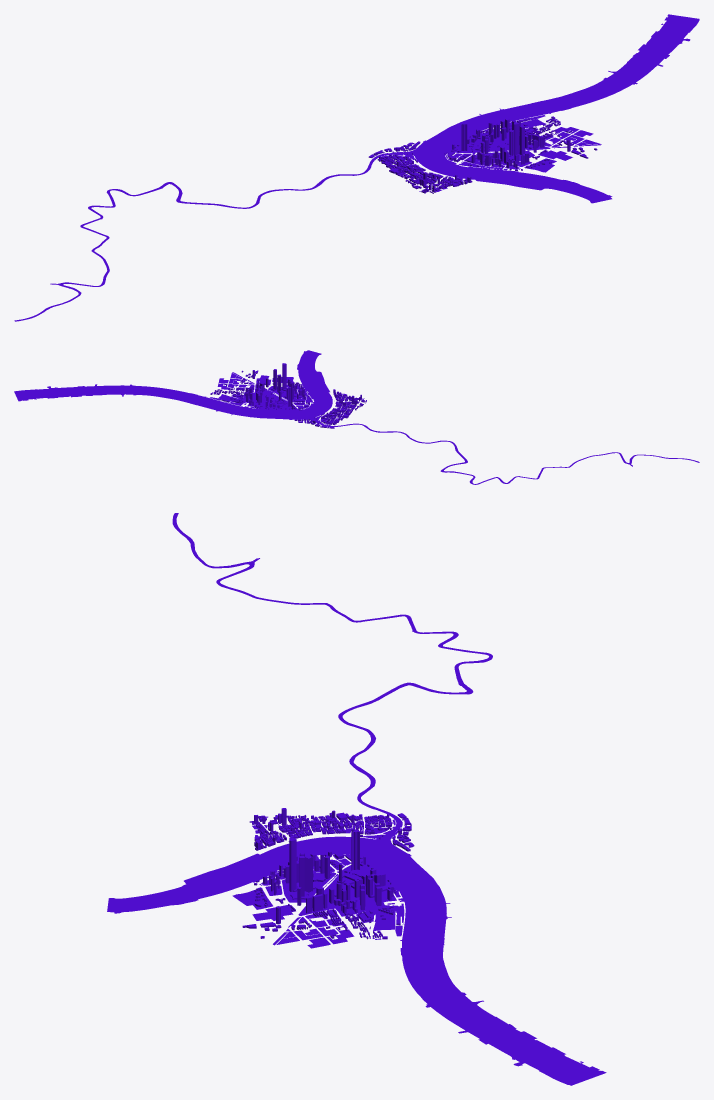
The picture shows the model from 3 angles, top to bottom: view 1: azimuth 30°, elevation 25°; view 2: azimuth 150°, elevation 25°; view 3: azimuth 270°, elevation 25°; orthographic projection. The views are drawn at different scales.
Parts seen in each view (by area): view 1: Areas; view 2: Areas; view 3: Areas.
Boxes of the visible parts, left/top/right/bottom form: Areas: left=14, top=14, right=699, bottom=321; Areas: left=14, top=350, right=699, bottom=484; Areas: left=107, top=513, right=606, bottom=1085.
Size of the model in its own units: 15205 by 632 by 5606.
